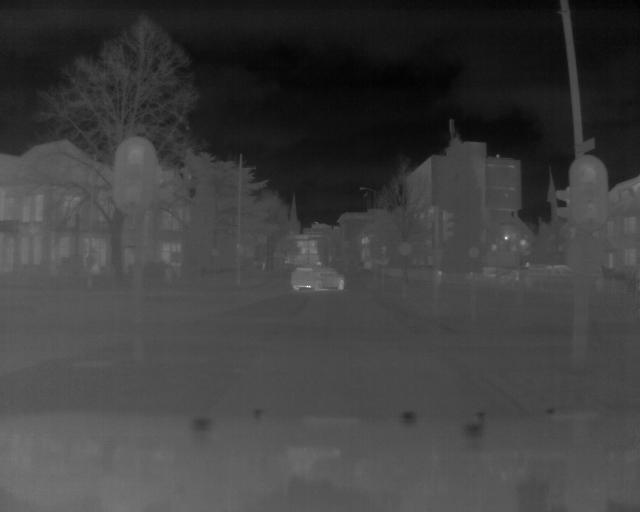car: (288, 264, 347, 291)
